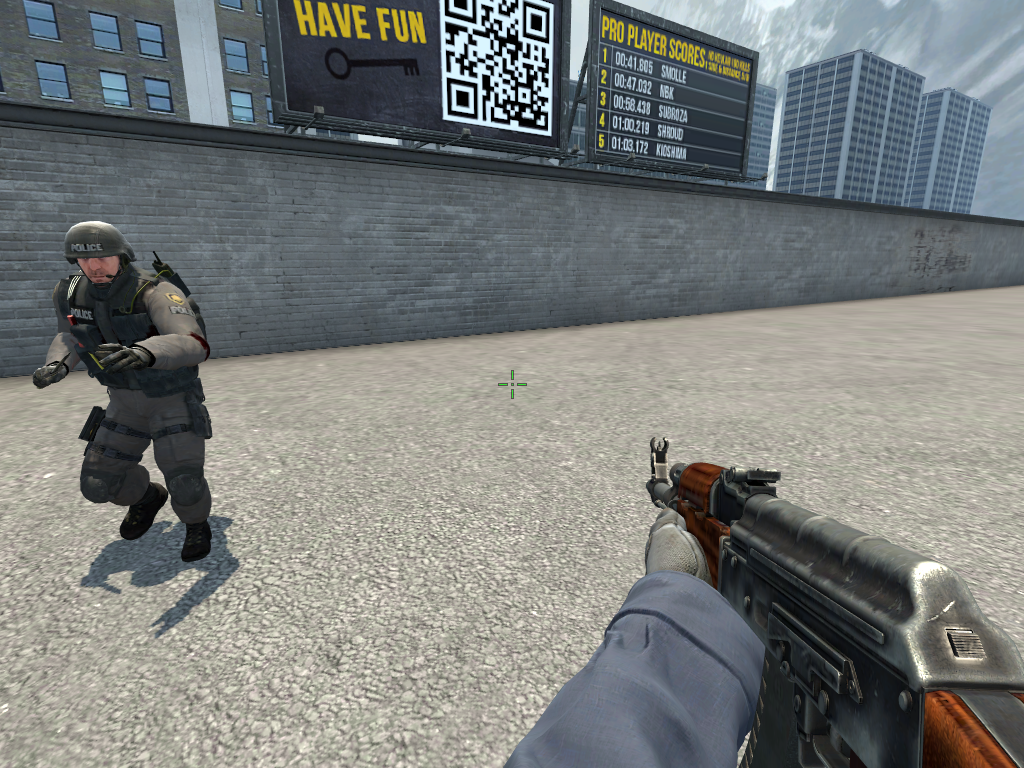ct head: (59, 218, 137, 295)
